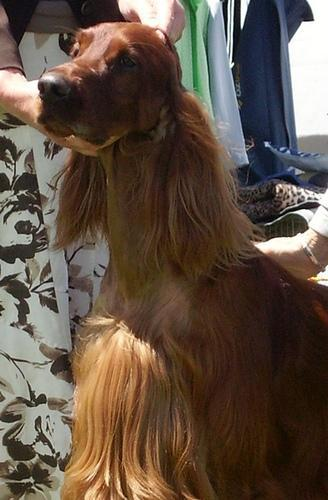Irish_setter: (33, 18, 326, 498)
